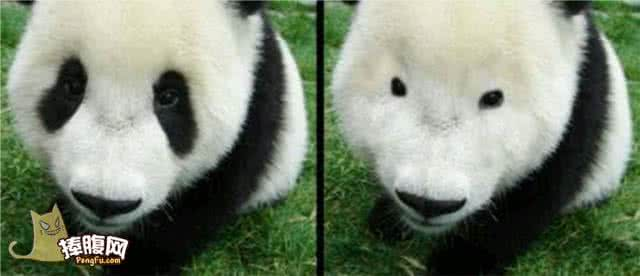panda: (328, 2, 634, 276), (5, 1, 308, 275)
